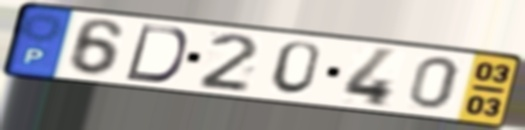0: (265, 40, 323, 97), (406, 54, 463, 112)
2: (193, 32, 262, 94)
4: (340, 46, 401, 108)
6: (66, 16, 127, 79)
D: (121, 22, 190, 85)
